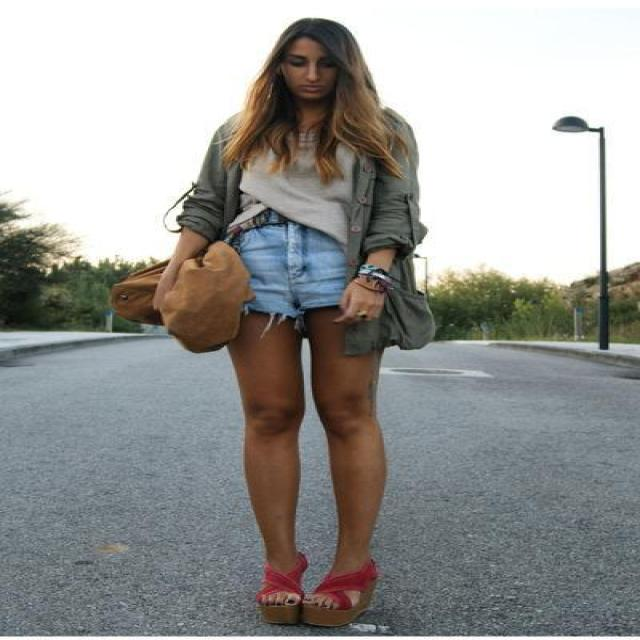bag: (109, 243, 261, 352)
jacket: (172, 142, 442, 360)
shirt: (227, 121, 354, 238)
shoe: (261, 560, 382, 626)
shorts: (240, 207, 358, 319)
